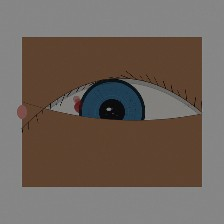hemorrhage_spot: (66, 84, 124, 130)
